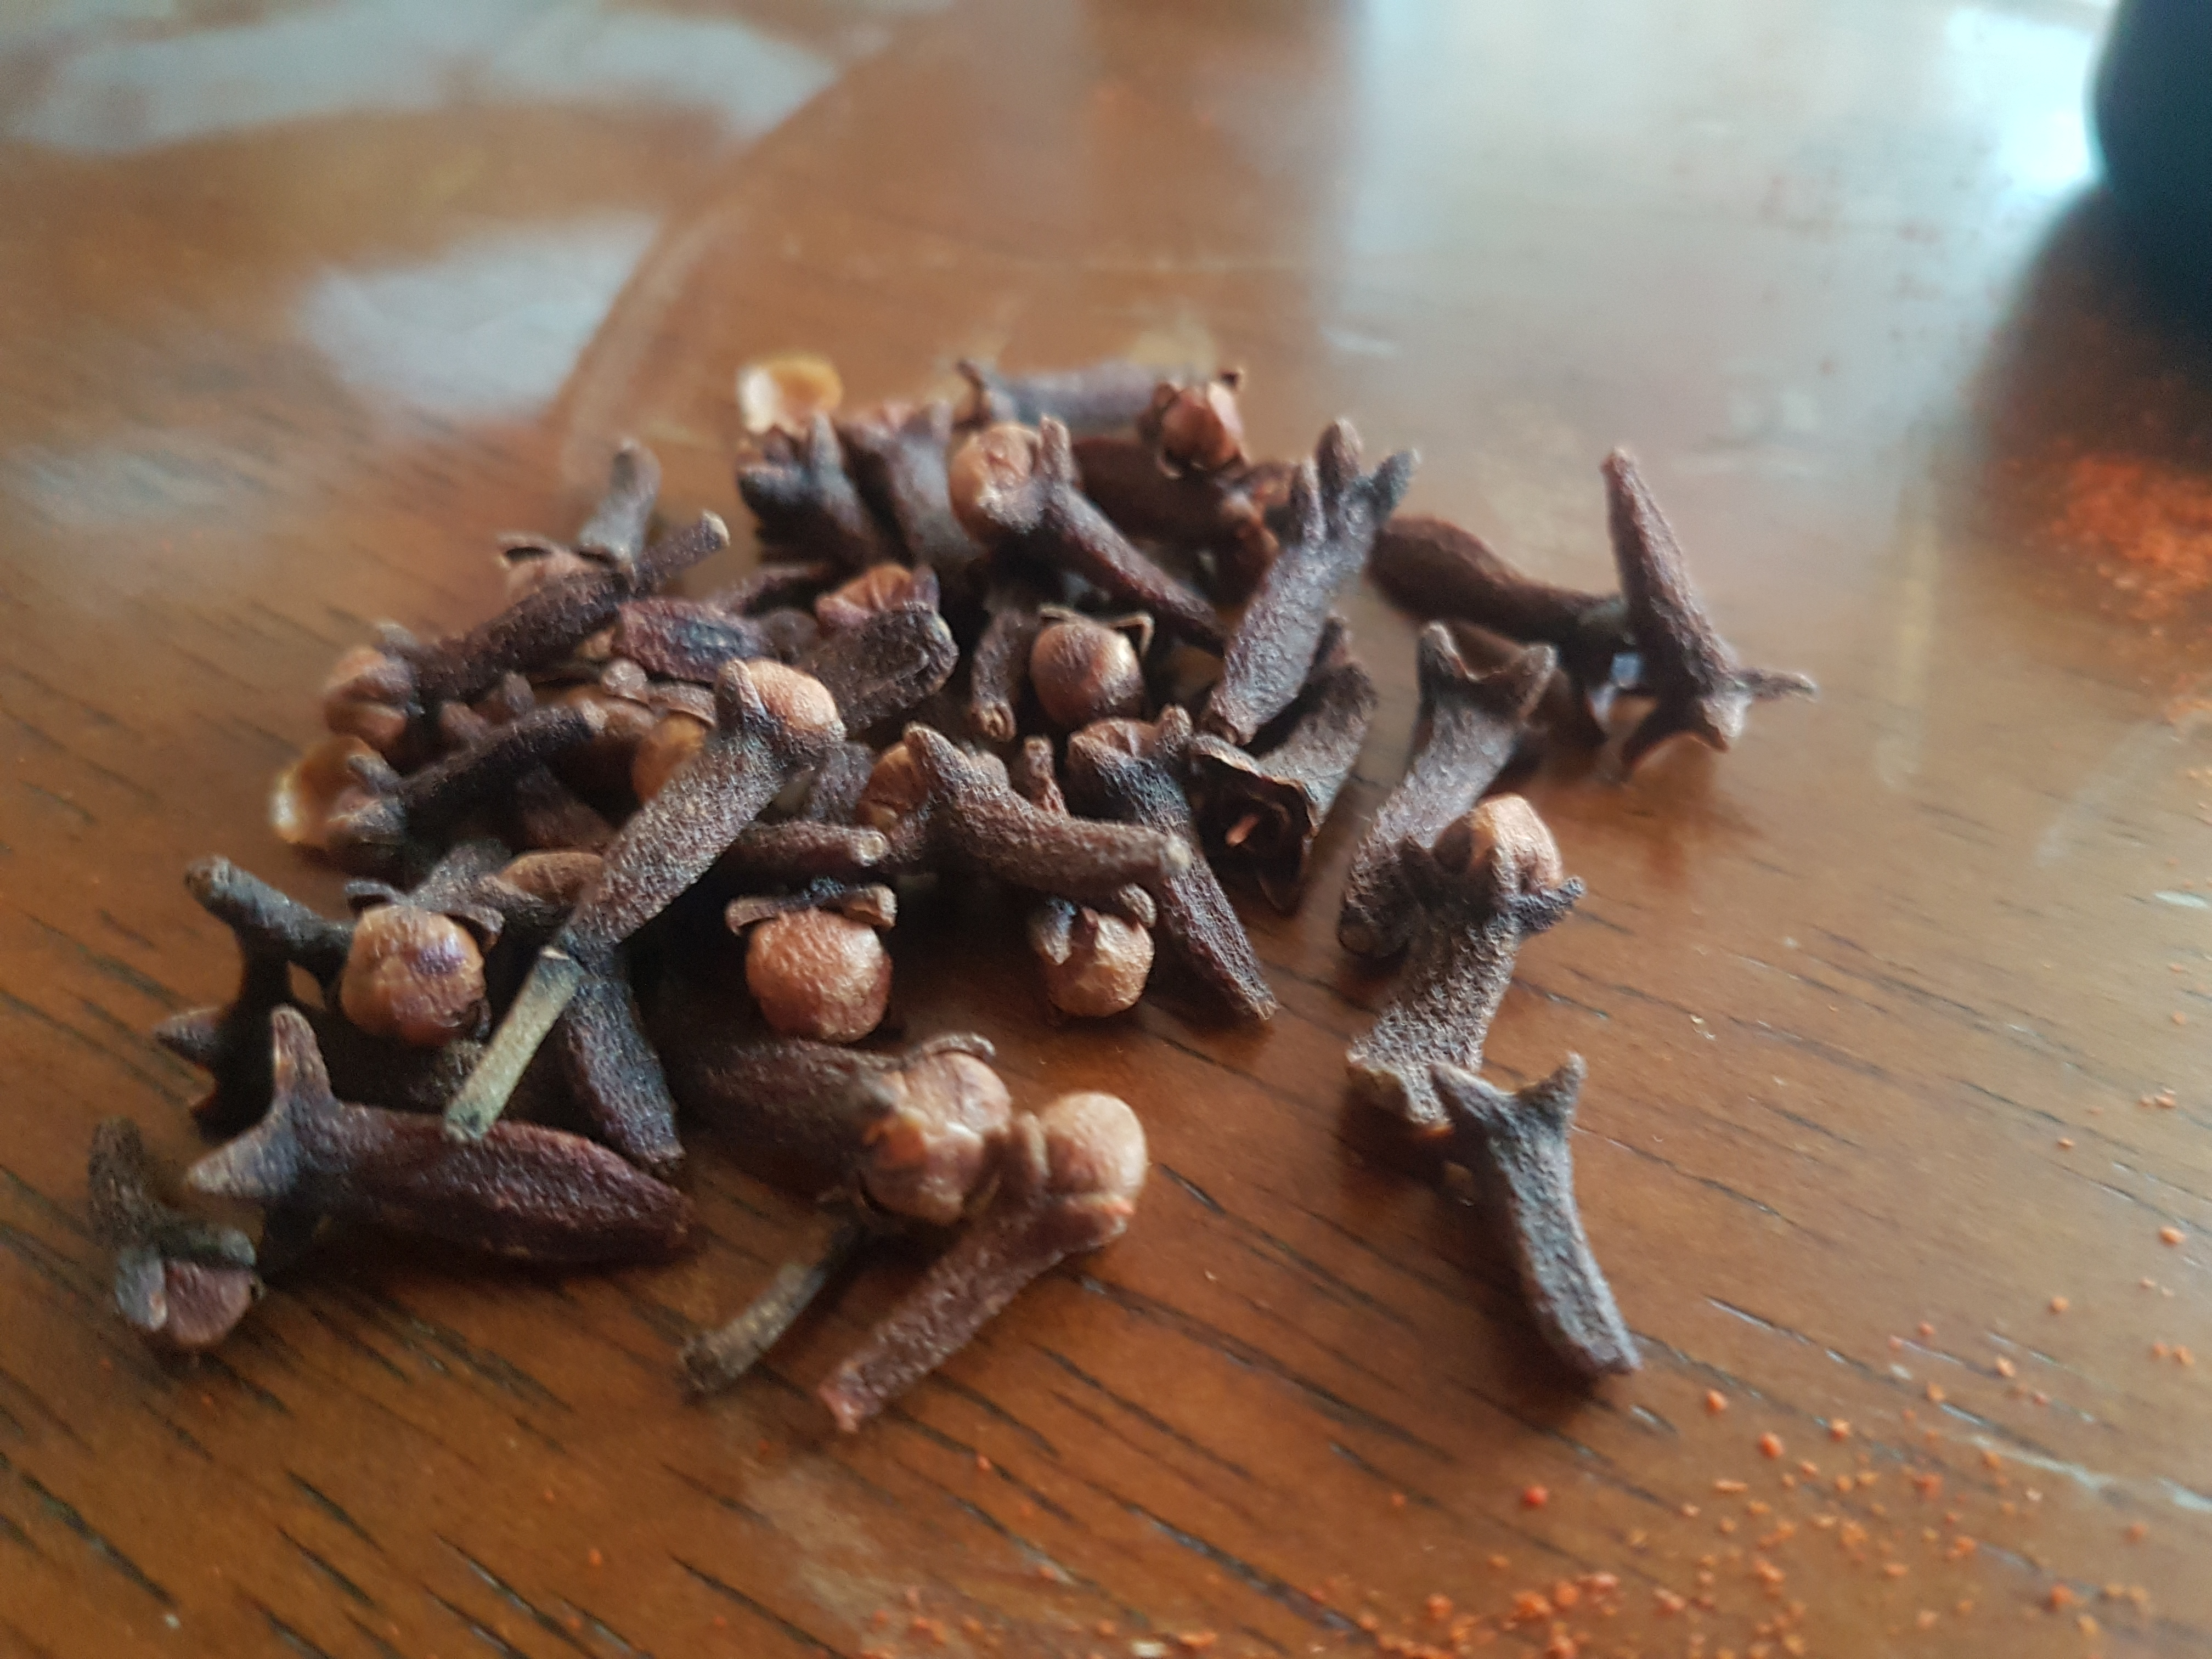Cloves: (94, 338, 1831, 1448)
